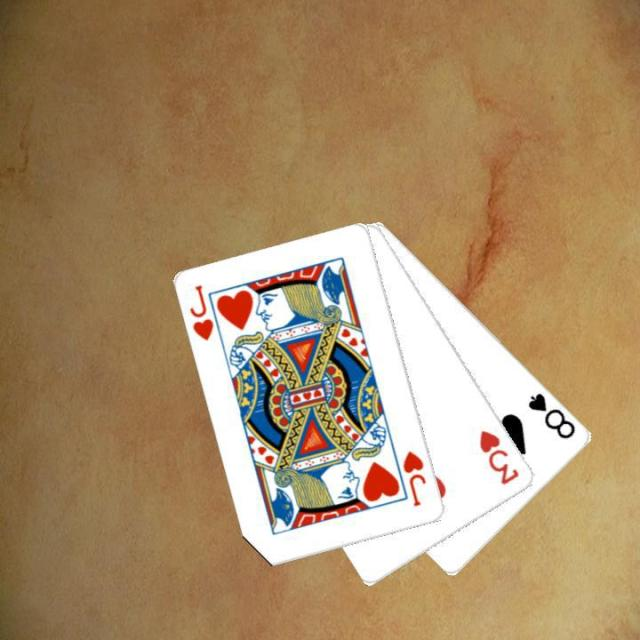3H: (476, 426, 522, 487)
8S: (524, 388, 578, 441)
JH: (399, 447, 429, 509), (187, 281, 216, 343)
